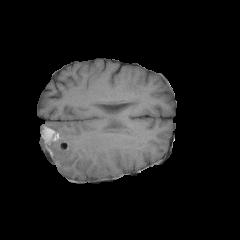glioma: (40, 124, 119, 176)
